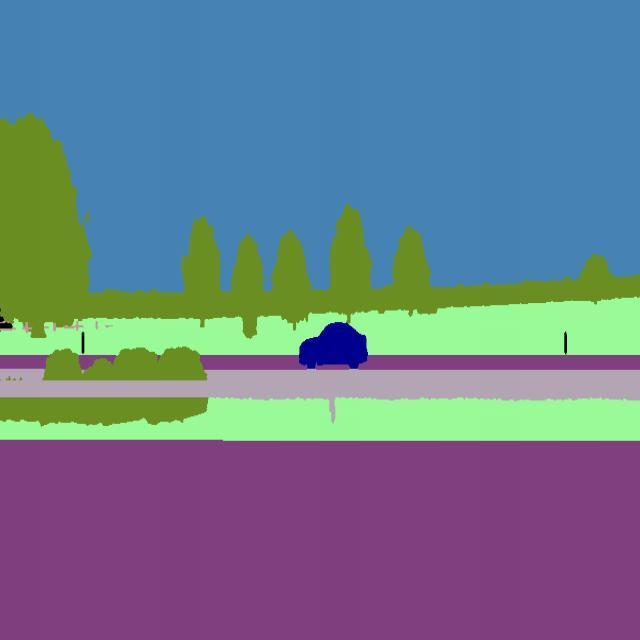safe: (296, 314, 374, 376)
